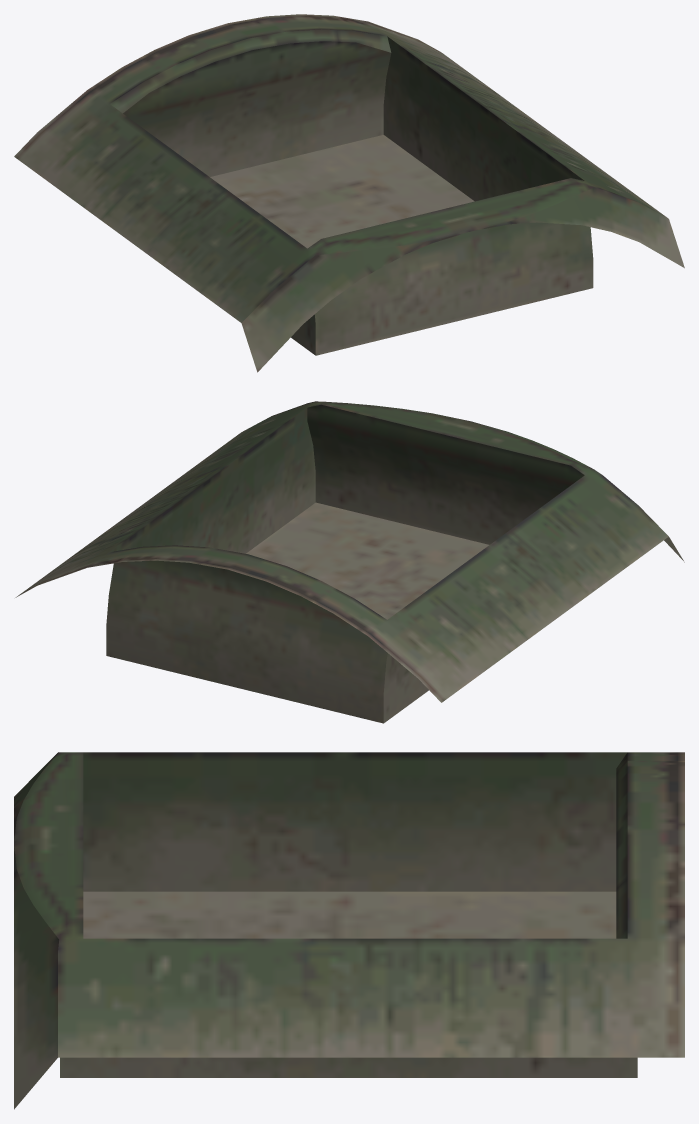
The model's file is Turret_01.glb.
3 renders of one model, top to bottom at view 1: azimuth 30°, elevation 25°; view 2: azimuth 150°, elevation 25°; view 3: azimuth 270°, elevation 25°, orthographic. The views are drawn at different scales.
Visible parts, largest first — view 1: set_0_group_0; view 2: set_0_group_0; view 3: set_0_group_0.
Part boxes in pixels (x1,y1,x2,y2): set_0_group_0: [14, 14, 684, 372]; set_0_group_0: [15, 401, 684, 723]; set_0_group_0: [14, 752, 684, 1109].
Size of the model in its own units: 0.7705 by 0.2286 by 0.76.
Materials: 1 (1 with a texture image).
